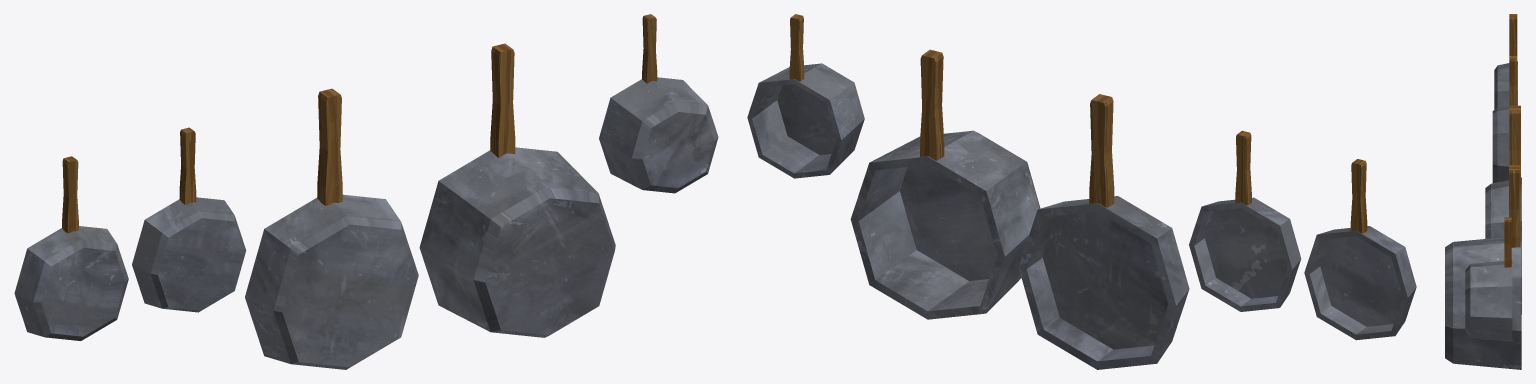
The model's file is pots and pans.fbx.
3 views of the same model, side by side, from view 1: azimuth 30°, elevation 25°; view 2: azimuth 150°, elevation 25°; view 3: azimuth 270°, elevation 25° (orthographic). The views are drawn at different scales.
Visible parts, largest first — view 1: pots and pans; view 2: pots and pans; view 3: pots and pans.
Part boxes in pixels (<box>): pots and pans: <box>14,14,718,369</box>; pots and pans: <box>747,14,1416,369</box>; pots and pans: <box>1445,14,1521,369</box>.
Bounding box in the file's own units: 579 × 226 × 77.48.
